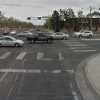crosswalk: (0, 52, 62, 60), (61, 40, 100, 51)
